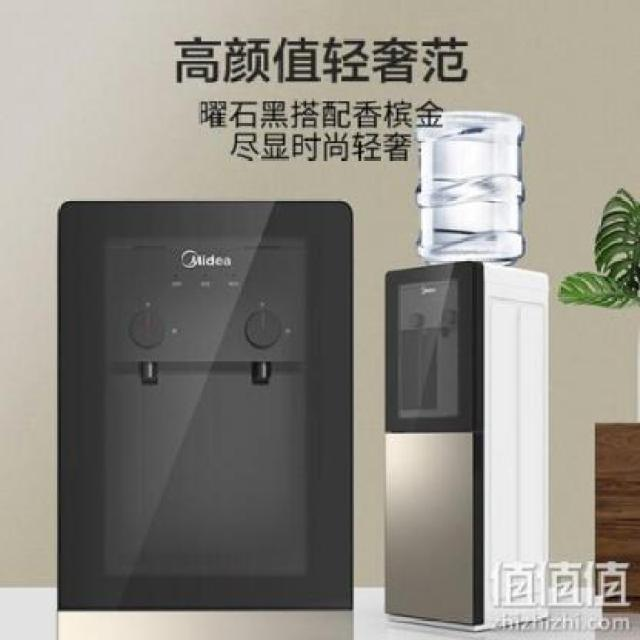cooler: (52, 197, 356, 639), (383, 106, 552, 632)
